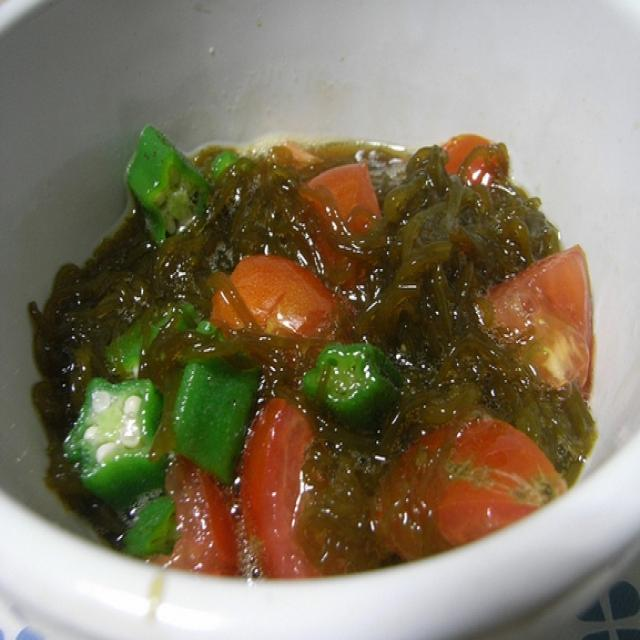蔬菜料理: (18, 95, 608, 588)
